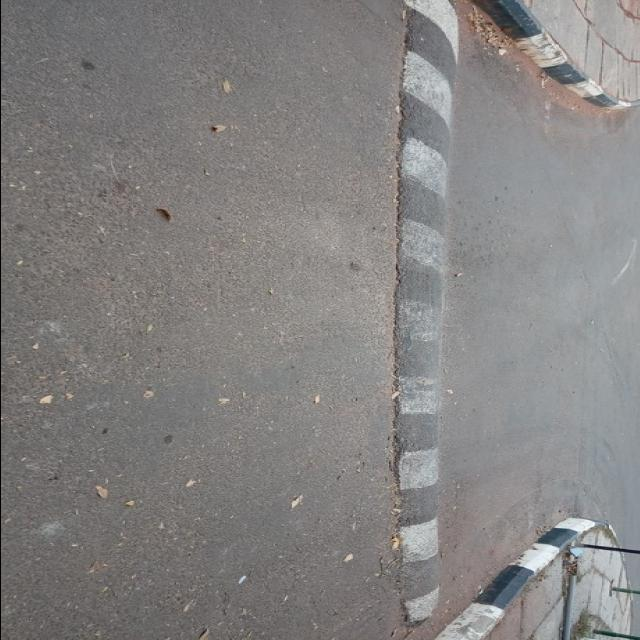speedbreaker: (373, 14, 477, 612)
